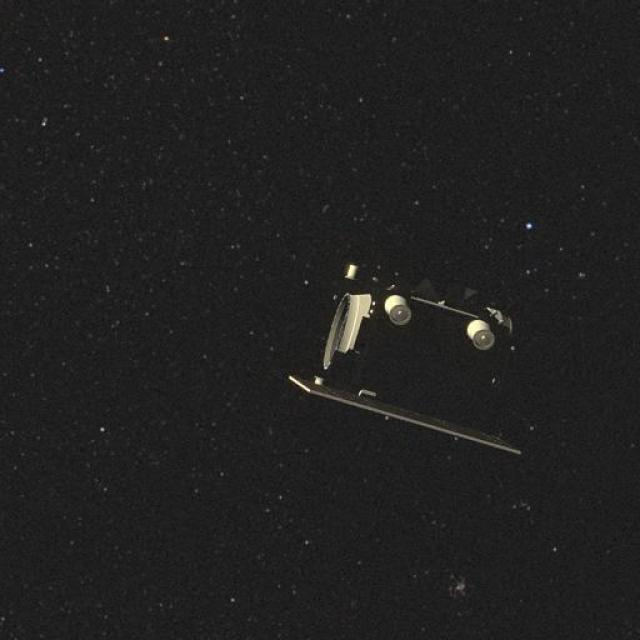proba_3_csc: (260, 227, 568, 493)
